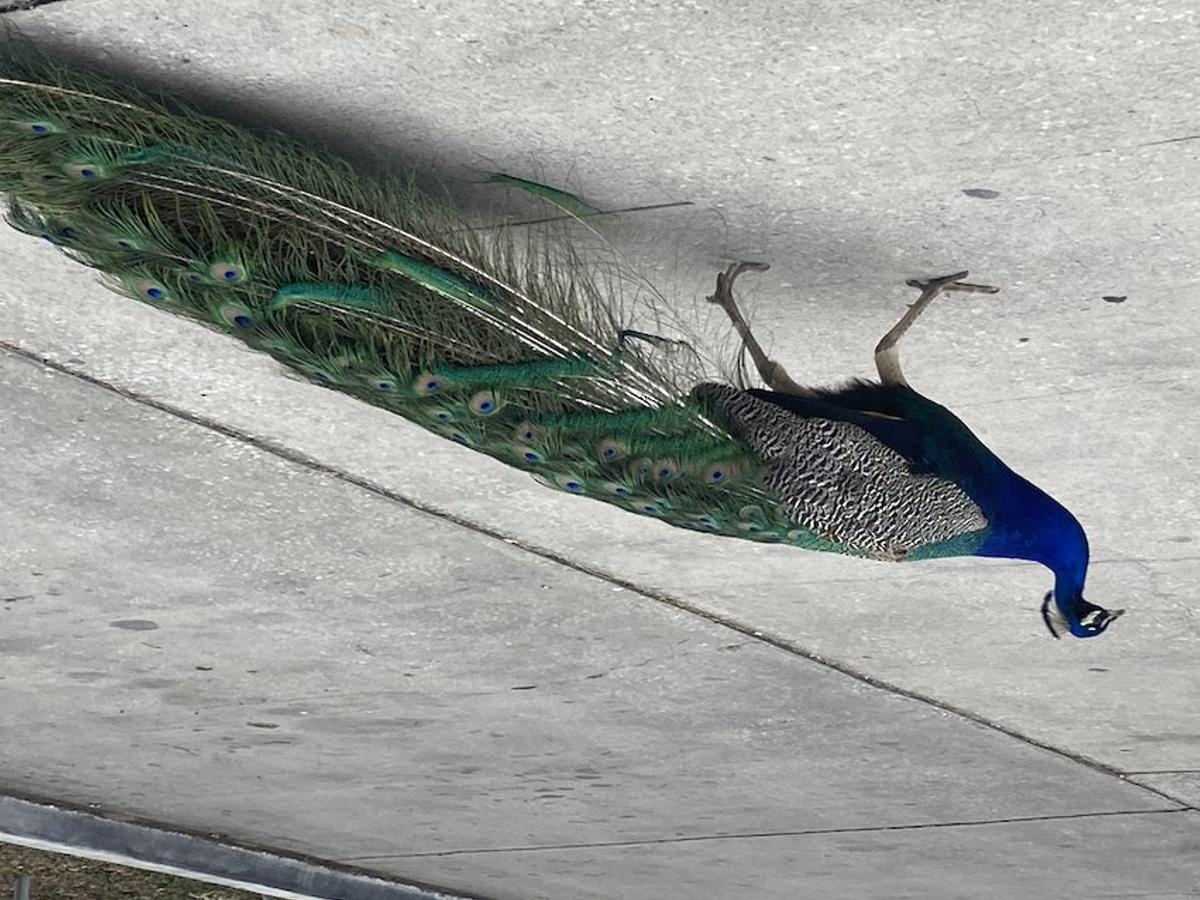peacock: (1, 68, 1127, 651)
